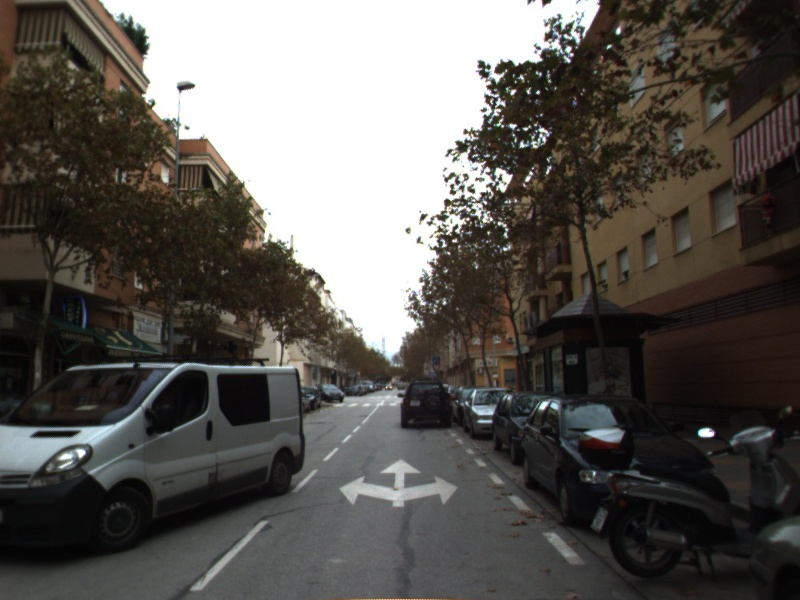STRAIGHT_LEFT_RIGHT: (336, 457, 462, 509)
